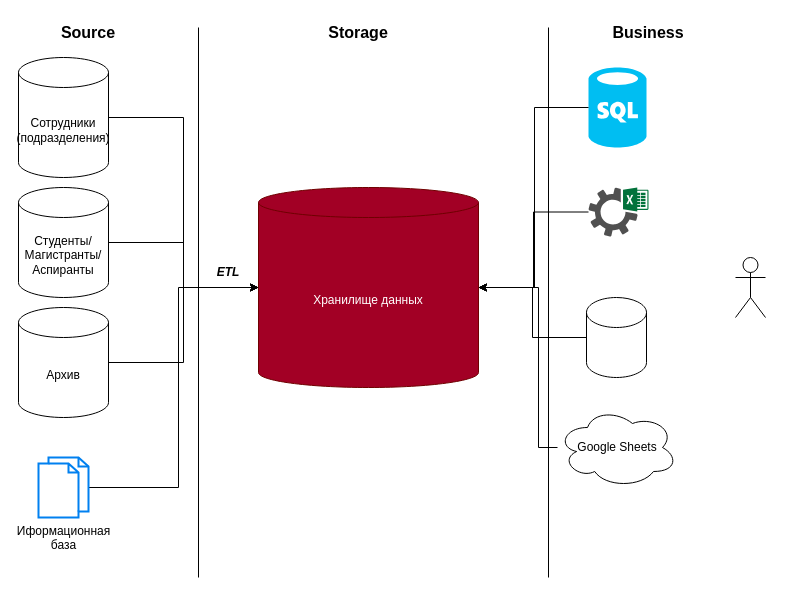
Image size: 807x596. Some labels were removed from this diagram. The box of each missing label's shape, as (x1, y1, x2, y2) in pixels:
1С: (586, 296, 646, 378)
Excel: (588, 187, 648, 236)
Пользователь: (734, 256, 766, 318)
